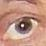eye: (16, 21, 31, 34)
